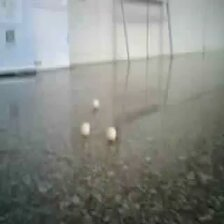w: (105, 126, 117, 141), (81, 123, 91, 135), (91, 98, 100, 107)
